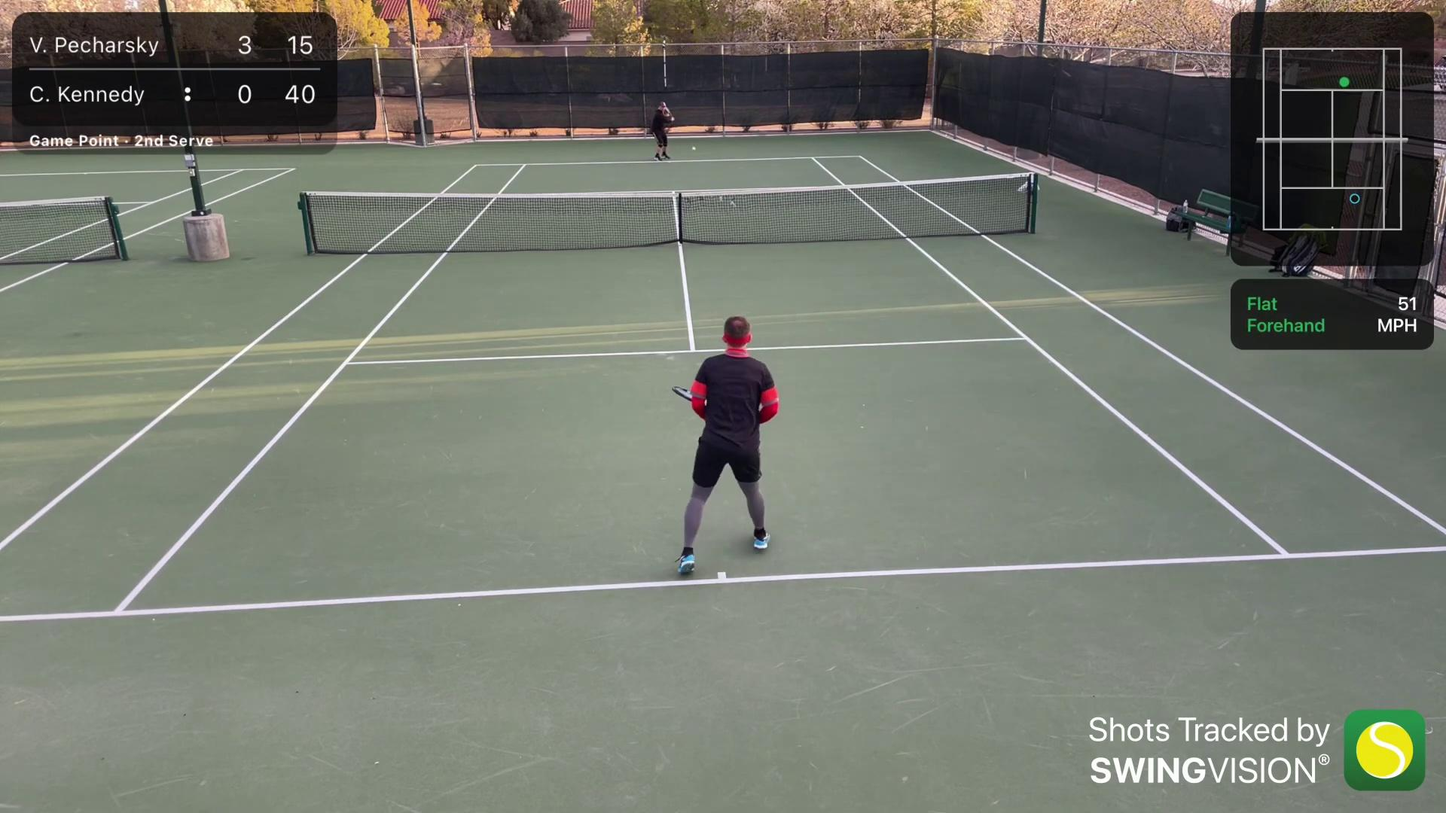ball: (689, 144, 696, 151)
